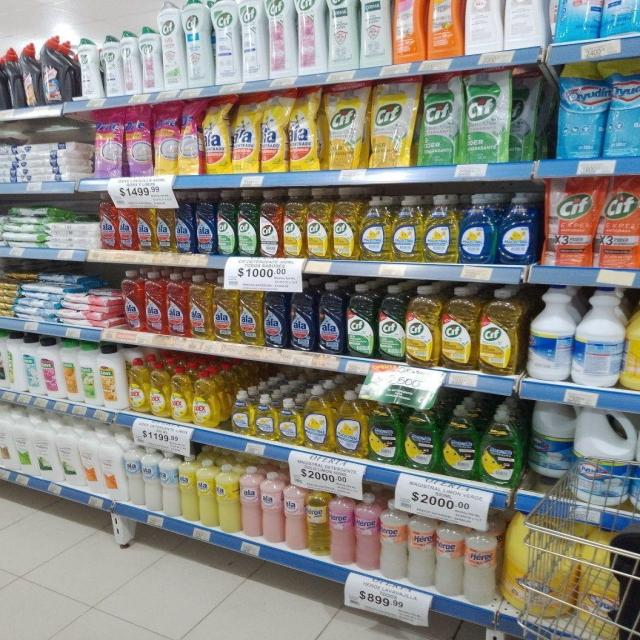ala_conc_amarillo: (213, 276, 237, 343), (239, 278, 262, 346), (189, 274, 212, 339), (136, 197, 155, 252), (156, 196, 174, 253)
ala_conc_azul: (317, 281, 345, 355), (289, 280, 315, 352), (263, 280, 288, 349), (196, 191, 216, 255), (175, 192, 195, 254)
ala_conc_rojo: (165, 272, 188, 336), (144, 270, 165, 334), (122, 270, 143, 332), (99, 194, 117, 250), (118, 197, 136, 251)
ala_crem_amarillo: (197, 458, 216, 528), (180, 453, 197, 523)
ala_crem_blanco: (143, 447, 161, 512), (162, 450, 179, 518), (126, 442, 143, 508)
ala_crem_rosado: (262, 470, 283, 544), (240, 466, 261, 538)
ala_sachet_amarillo: (289, 86, 321, 172), (260, 90, 288, 172), (231, 94, 259, 173), (204, 96, 230, 175)
cif_conc_bot_amarilla: (479, 288, 522, 376), (441, 286, 477, 370), (406, 284, 439, 367), (332, 188, 358, 260), (307, 188, 331, 260), (283, 188, 305, 258)
cif_conc_botella_roja: (259, 189, 282, 258)
cif_conc_botella_verde: (346, 282, 376, 358), (377, 284, 405, 362), (237, 188, 258, 257), (217, 190, 236, 256)
cif_conc_sachet_amarillo: (370, 76, 416, 168), (324, 81, 368, 170)
cif_conc_sachet_verde: (463, 69, 510, 164), (419, 72, 462, 166)
drive: (125, 105, 153, 177), (154, 101, 179, 176), (180, 100, 202, 175)
heroe: (464, 522, 500, 605), (380, 498, 407, 580), (435, 518, 463, 596), (408, 508, 434, 588), (355, 492, 380, 572), (330, 492, 354, 566), (284, 477, 306, 551), (307, 484, 329, 556)
magistral_con_amarillo: (480, 406, 523, 486), (424, 194, 458, 263), (392, 195, 423, 262), (335, 389, 366, 456), (360, 194, 390, 262), (304, 385, 333, 451), (277, 397, 302, 445), (254, 393, 276, 440), (231, 390, 253, 436)
magistral_con_azul: (498, 192, 537, 265), (460, 192, 496, 264)
magistral_con_verde: (441, 404, 478, 478), (404, 404, 439, 472), (368, 400, 402, 464)
odex: (193, 362, 222, 427), (128, 351, 148, 413), (171, 360, 191, 422), (150, 356, 170, 417)
